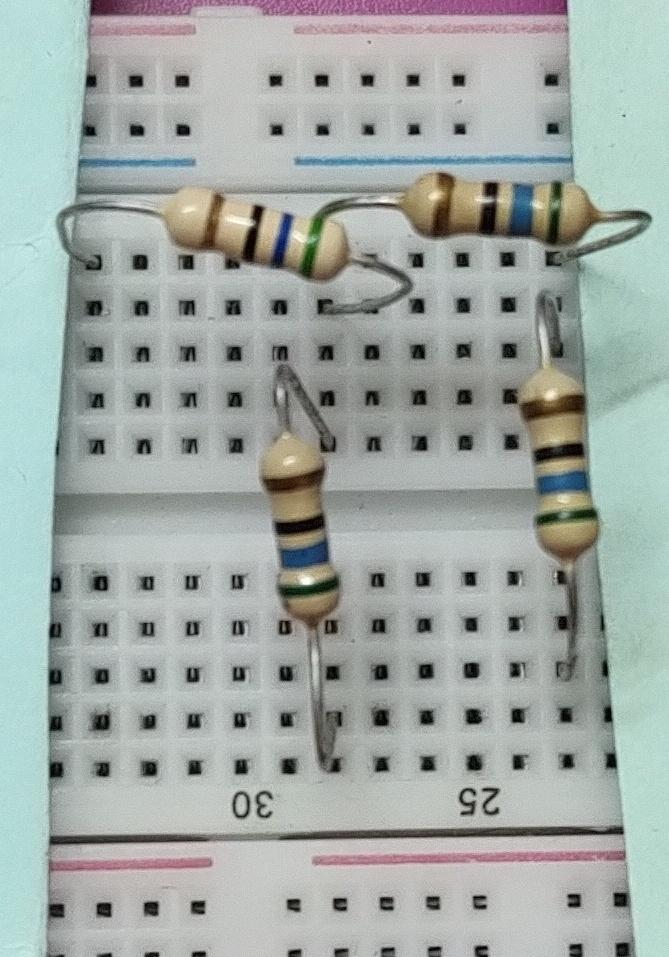resistor: (243, 423, 359, 634), (503, 361, 611, 574), (155, 181, 356, 289), (397, 163, 608, 255)
